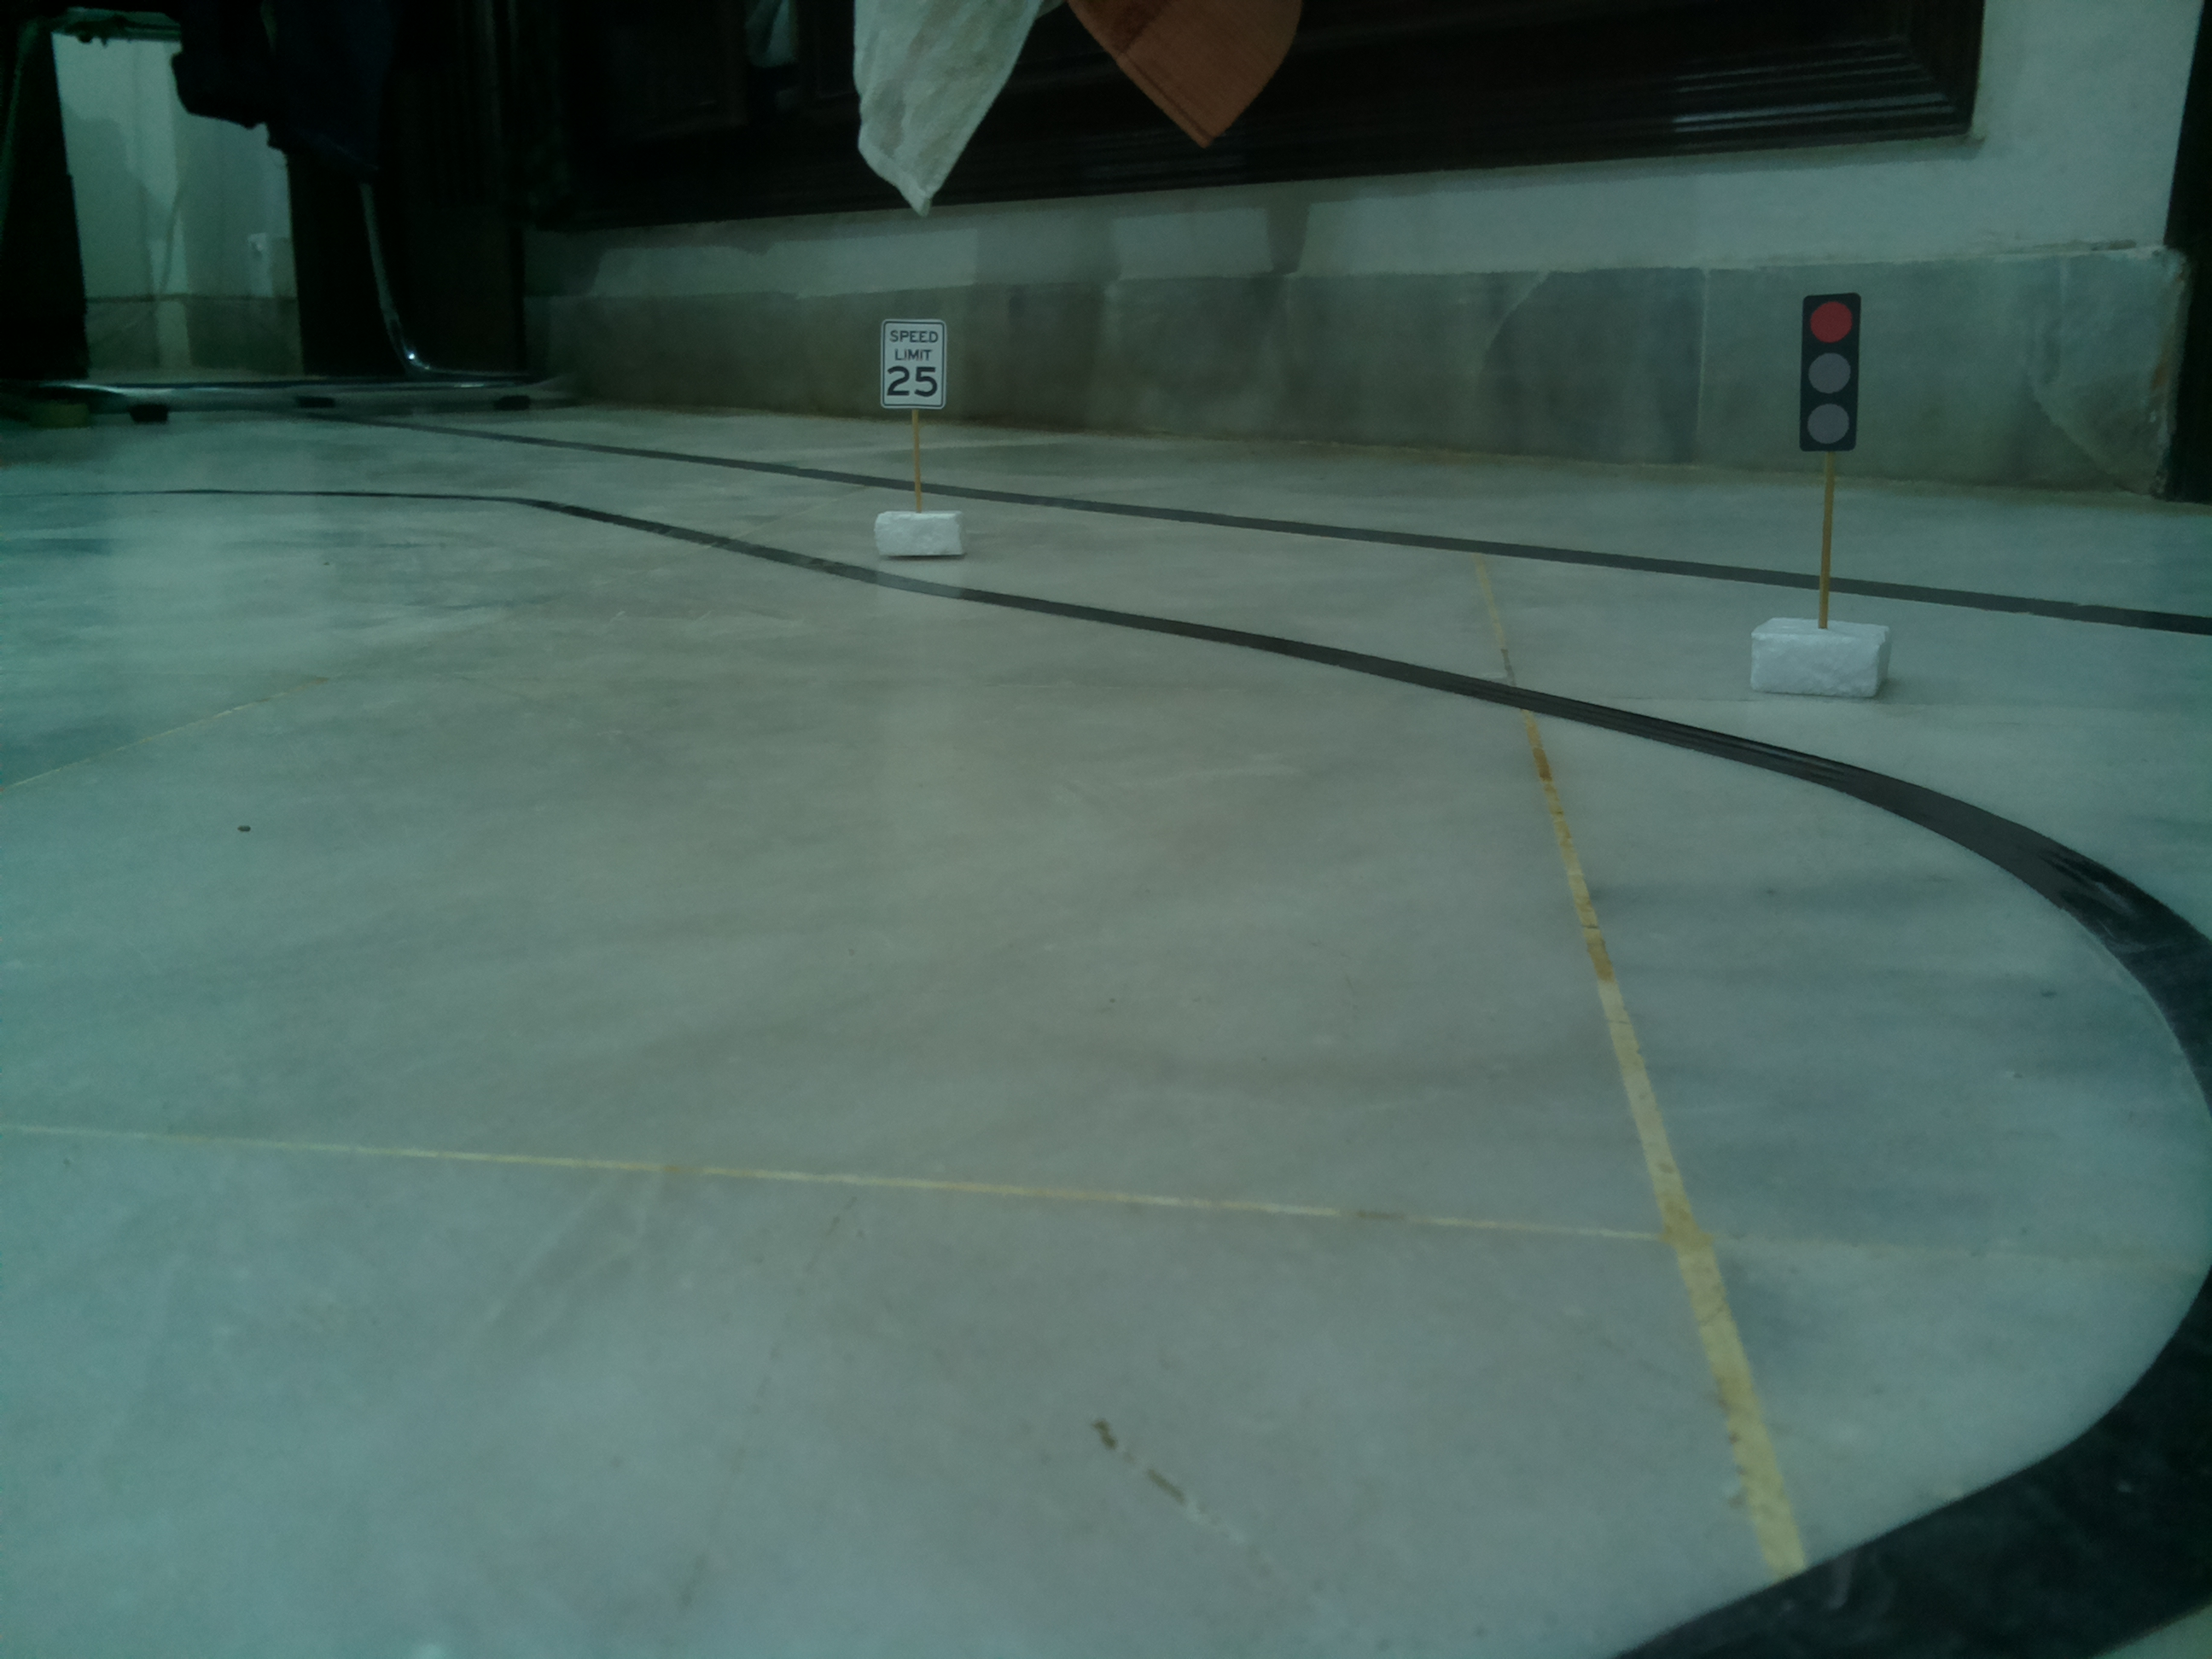Red traffic light: (1787, 291, 1878, 467)
Speed limit 25: (874, 310, 958, 418)
